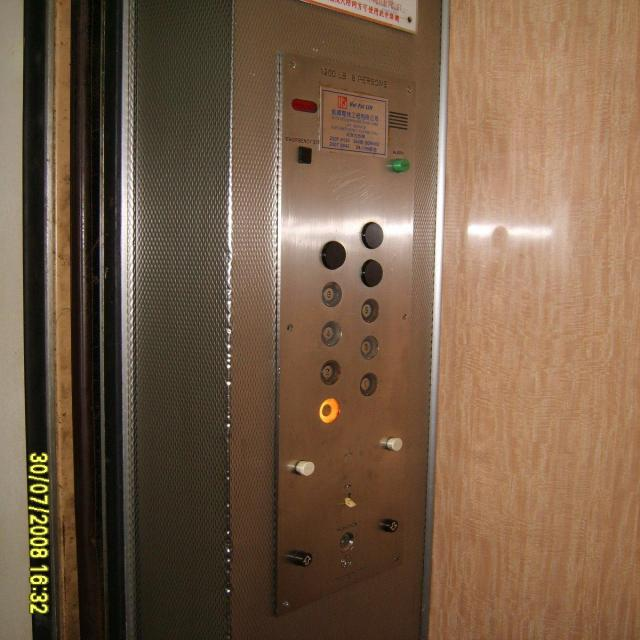1: (358, 370, 380, 398)
2: (319, 358, 342, 386)
3: (358, 332, 380, 360)
4: (320, 319, 342, 346)
5: (358, 296, 381, 324)
6: (318, 280, 344, 308)
G: (319, 397, 341, 424)
down: (378, 516, 400, 533)
empty: (320, 238, 347, 271), (357, 258, 384, 288), (358, 220, 385, 249), (381, 432, 405, 456), (294, 456, 318, 479), (295, 145, 314, 166)
switch: (341, 487, 356, 511)
text: (390, 158, 412, 175)
up: (290, 549, 317, 568)
